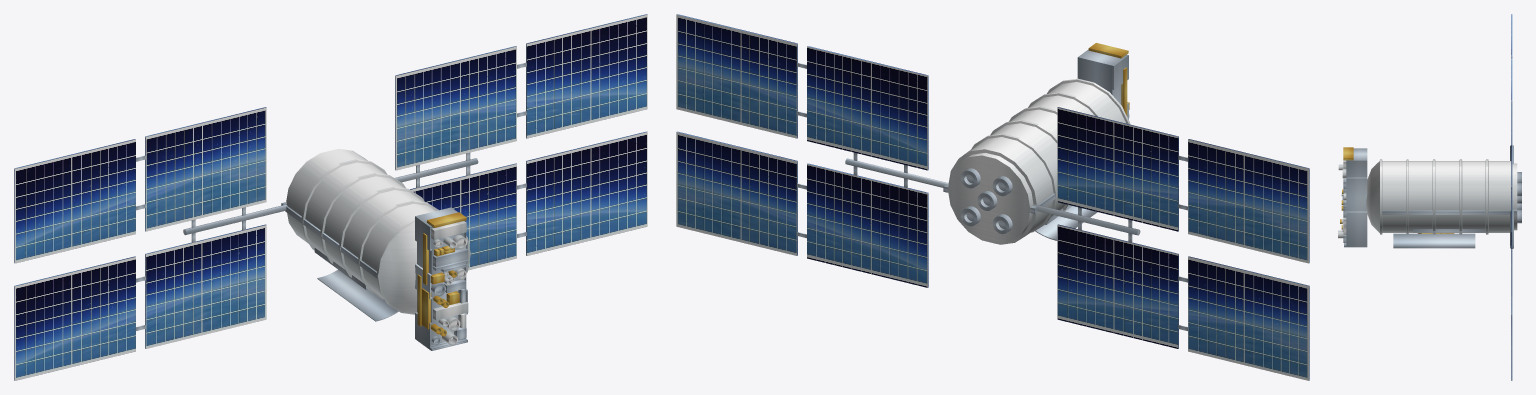
Rendered from GLONASS.gltf.
3 views of the same model, side by side, from view 1: azimuth 30°, elevation 25°; view 2: azimuth 150°, elevation 25°; view 3: azimuth 270°, elevation 25° (orthographic). The views are drawn at different scales.
Parts seen in each view (by area): view 1: ï¿½ï¿½ï¿½ï¿½001, ï¿½ï¿½ï¿½ï¿½002, Cylinder001, Box033, Box001, Box036, Box034; view 2: ï¿½ï¿½ï¿½ï¿½001, ï¿½ï¿½ï¿½ï¿½002, Cylinder001, Box001, Box033, Box034; view 3: Cylinder001, Box001, Box034, Box037, ï¿½ï¿½ï¿½ï¿½002, ï¿½ï¿½ï¿½ï¿½001.
Part boxes in pixels (x1,y1,x2,y2): ï¿½ï¿½ï¿½ï¿½001: (14,107,266,380); ï¿½ï¿½ï¿½ï¿½002: (395,14,647,270); Cylinder001: (286,149,470,314); Box033: (136,155,398,330); Box001: (415,207,467,350); Box036: (281,202,376,289); Box034: (395,62,526,237); ï¿½ï¿½ï¿½ï¿½001: (1057,107,1309,380); ï¿½ï¿½ï¿½ï¿½002: (676,14,928,287); Cylinder001: (948,78,1130,244); Box001: (1077,49,1128,119); Box033: (1033,155,1187,330); Box034: (797,62,948,238); Cylinder001: (1366,159,1517,234); Box001: (1344,148,1367,247); Box034: (1393,209,1513,248); Box037: (1382,209,1516,232); ï¿½ï¿½ï¿½ï¿½002: (1511,145,1512,380); ï¿½ï¿½ï¿½ï¿½001: (1511,14,1512,144).
Bounding box in the file's own units: 49.53 × 15.86 × 17.7.
4 materials, 4 textured.
